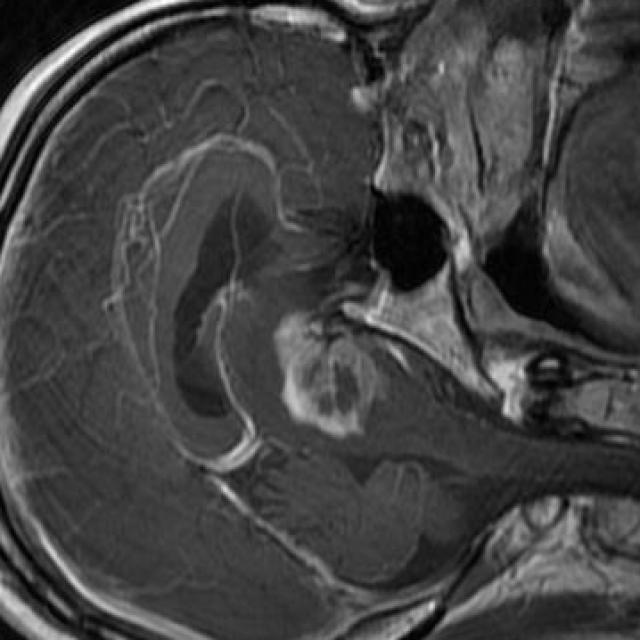glioma: (275, 312, 387, 439)
